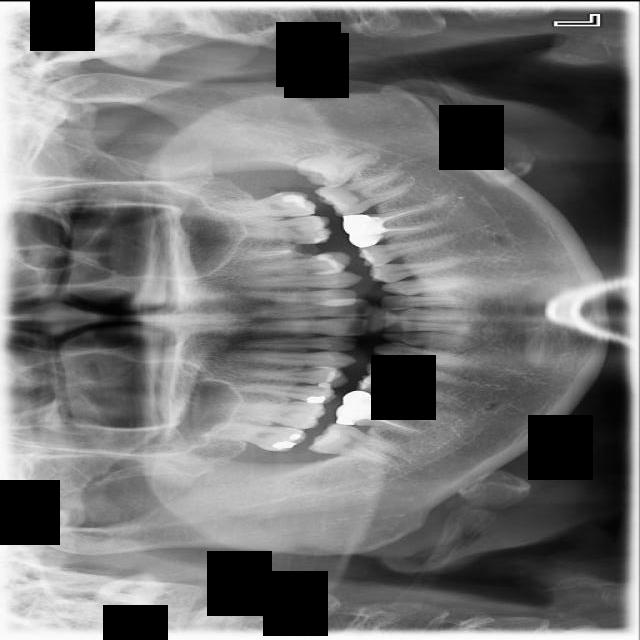52: (334, 388, 380, 426), (255, 423, 309, 454), (287, 211, 334, 246), (340, 213, 386, 246), (306, 248, 353, 276), (269, 190, 318, 216), (306, 362, 350, 390), (355, 373, 396, 394), (298, 383, 337, 404), (291, 237, 321, 258)
73: (362, 396, 437, 439), (373, 198, 443, 242), (235, 242, 307, 261), (611, 16, 619, 24)
BioHorizons Implant: (197, 188, 318, 223)
Biomet 3i Implant: (293, 132, 381, 199)
Blue Sky Bio Implant: (314, 167, 414, 222)
Caries: (199, 415, 309, 455)
Implant: (307, 417, 404, 465)
